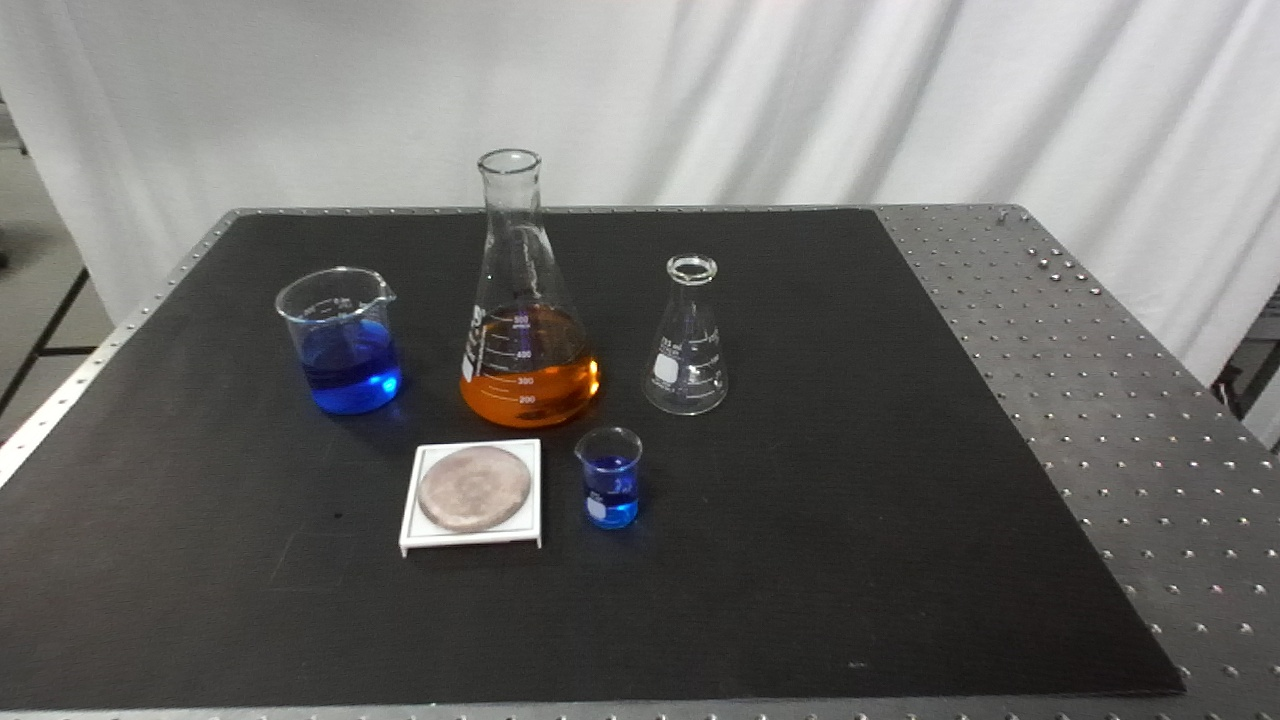glass: (451, 146, 602, 430), (273, 261, 407, 416), (644, 251, 732, 417), (573, 425, 644, 535)
plate: (401, 438, 547, 563)
